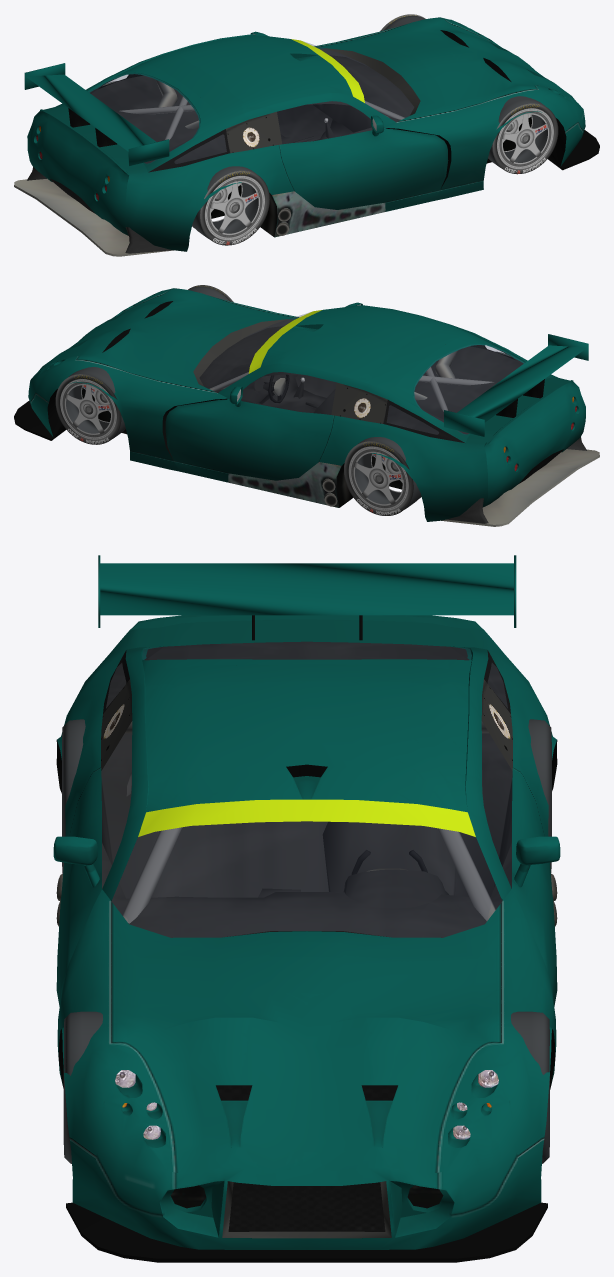
Rendered from sd-ls2-condor-c400r.glb.
The picture shows the model from 3 angles, top to bottom: view 1: azimuth 30°, elevation 25°; view 2: azimuth 150°, elevation 25°; view 3: azimuth 270°, elevation 25°; orthographic projection. The views are drawn at different scales.
Visible parts, largest first — view 1: detail_1, paint_2, glass_0, Rim_RearRight, Rim_FrontRight, gt_instrument_DULLDASH_s_8_3, Tire_RearRight, Tire_FrontRight; view 2: detail_1, paint_2, glass_0, Rim_RearLeft, Rim_FrontLeft, gt_instrument_DULLDASH_s_8_3, Tire_RearLeft, Tire_FrontLeft, gt_steering_STEERINGWH_s_5_5; view 3: detail_1, paint_2, glass_0, gt_instrument_DULLDASH_s_8_3, Tire_FrontRight, Tire_FrontLeft, Tire_RearRight, Tire_RearLeft.
Boxes of the visible parts, x1,y1,x2,y2 form: detail_1: (14,17,599,256); paint_2: (24,34,395,172); glass_0: (89,42,413,163); Rim_RearRight: (192,170,269,245); Rim_FrontRight: (492,103,558,174); gt_instrument_DULLDASH_s_8_3: (323,55,414,135); Tire_RearRight: (192,166,258,238); Tire_FrontRight: (488,96,547,167); detail_1: (14,288,599,526); paint_2: (218,305,588,442); glass_0: (200,313,523,434); Rim_RearLeft: (344,441,421,515); Rim_FrontLeft: (55,374,121,444); gt_instrument_DULLDASH_s_8_3: (199,326,297,406); Tire_RearLeft: (355,437,421,509); Tire_FrontLeft: (66,367,125,438); gt_steering_STEERINGWH_s_5_5: (268,374,289,403); detail_1: (53,615,560,1262); paint_2: (98,555,516,900); glass_0: (102,642,511,937); gt_instrument_DULLDASH_s_8_3: (102,843,511,937); Tire_FrontRight: (63,1011,102,1163); Tire_FrontLeft: (511,1011,549,1163); Tire_RearRight: (62,719,85,873); Tire_RearLeft: (528,719,551,873).
Size of the model in its own units: 4.59 by 1.09 by 2.02.
Materials: 5 (4 with a texture image).
